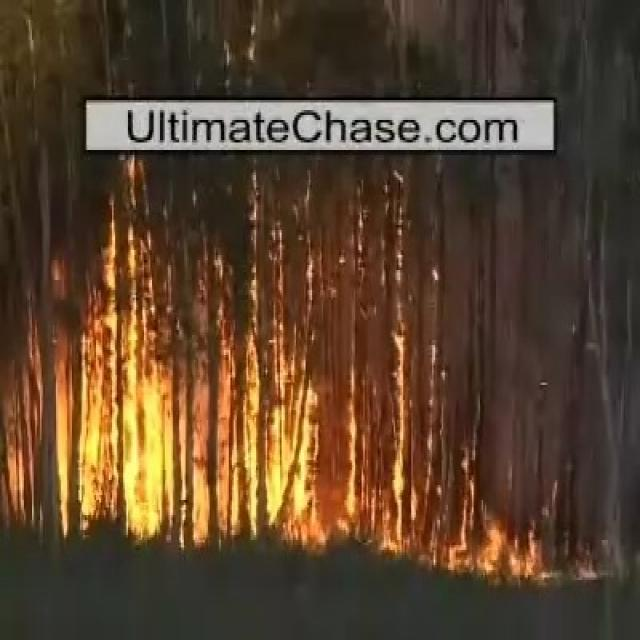fire: (126, 368, 171, 542), (266, 422, 318, 524)
